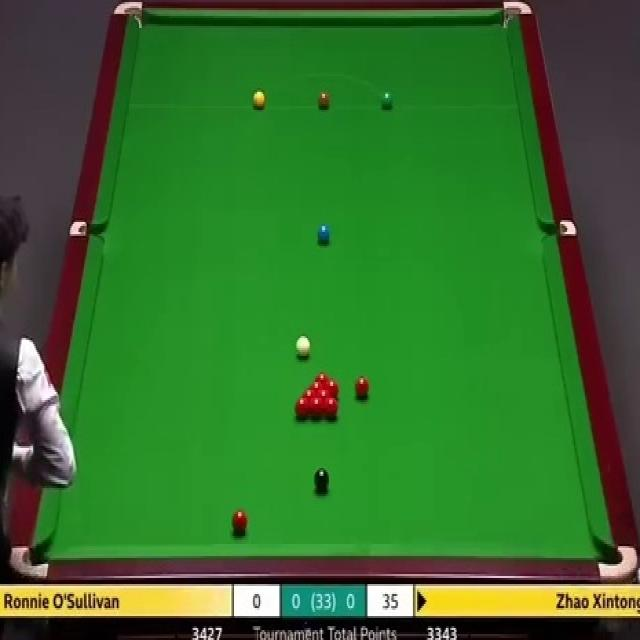black-ball: (314, 466, 329, 489)
blue-ball: (316, 222, 329, 250)
brown-ball: (317, 90, 330, 109)
green-ball: (381, 90, 394, 109)
red-ball: (230, 509, 250, 534), (354, 373, 371, 398), (293, 395, 311, 417), (324, 395, 338, 418), (310, 395, 324, 417), (323, 380, 339, 397), (315, 387, 332, 400), (315, 371, 329, 383), (308, 381, 324, 390), (303, 389, 315, 398)
white-ball: (296, 336, 312, 359)
yellow-ball: (252, 90, 265, 109)
